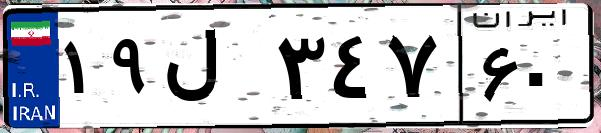0: (525, 38, 570, 115)
1: (57, 26, 110, 100)
3: (270, 28, 330, 110)
4: (330, 28, 385, 110)
6: (475, 38, 525, 113)
7: (385, 28, 445, 110)
9: (110, 28, 158, 98)
ل: (158, 20, 270, 120)
